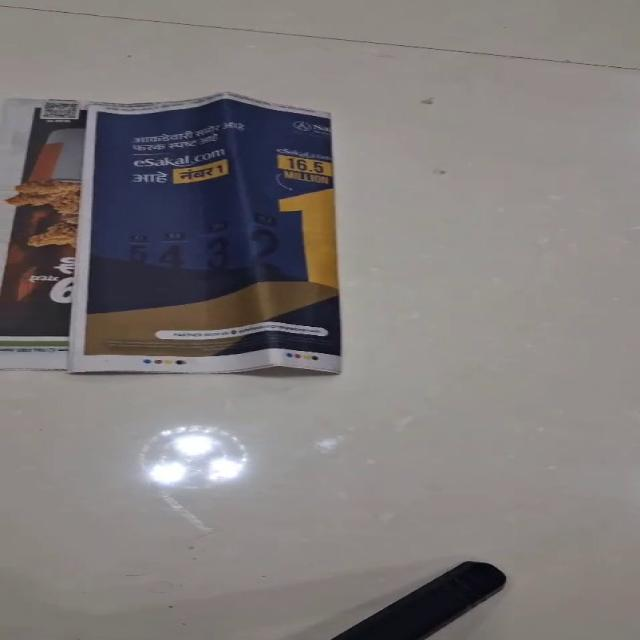paper: (66, 91, 342, 375)
